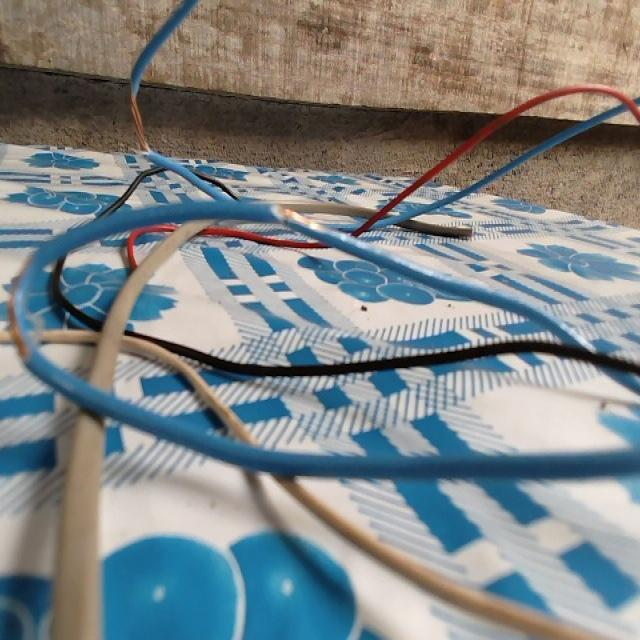-: (6, 248, 41, 360), (125, 86, 151, 154)
